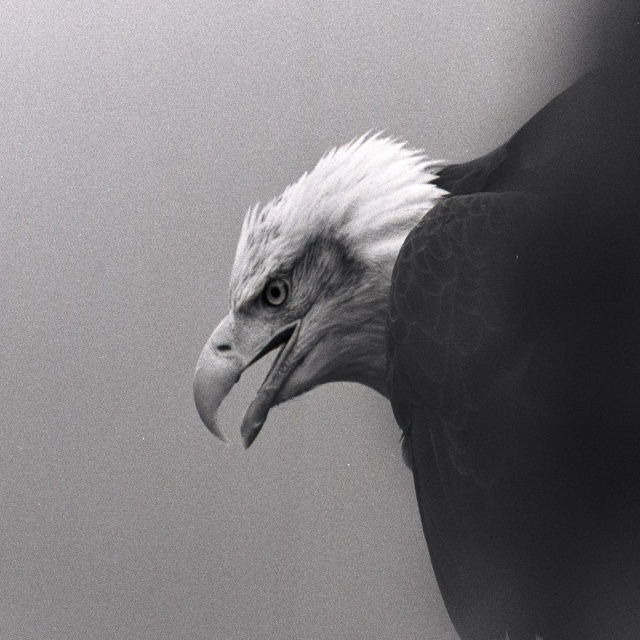Eagle: (188, 51, 640, 639)
